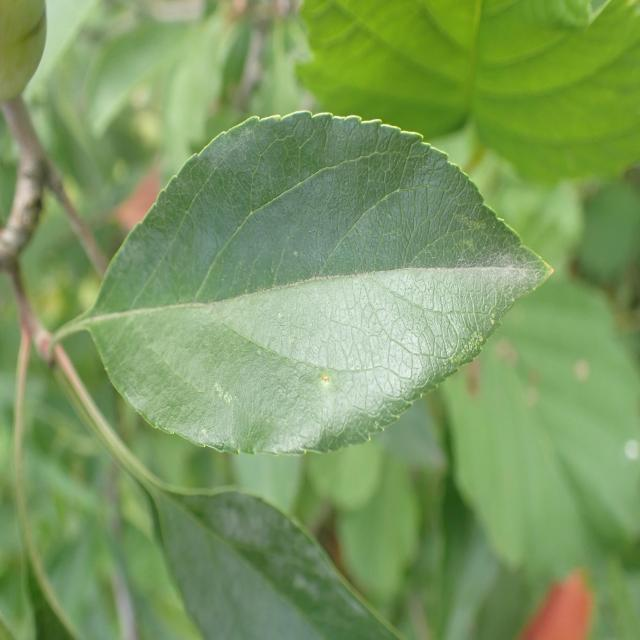Powdery_mildew: (94, 130, 540, 472)
